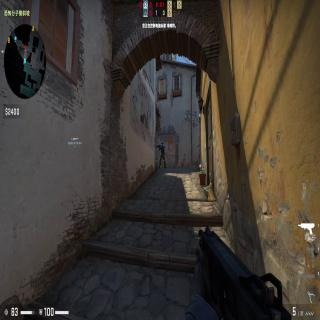T-Head: (161, 142, 163, 146)
